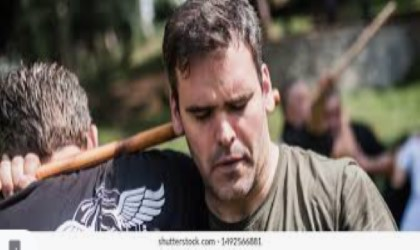baston_e: (41, 121, 158, 183), (327, 20, 365, 106)
baston_v: (163, 113, 195, 142), (266, 79, 287, 107), (380, 0, 403, 18)
